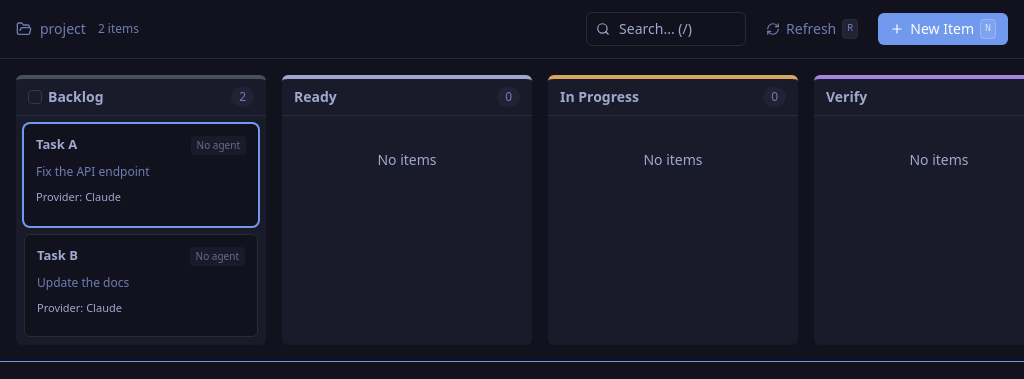
Scenario: KanbanView › should filter cards by description too
The width and height of the screenshot is (1024, 379).
Type "API" into the field with test id "search-input" at (666, 29), box [586, 12, 746, 46]
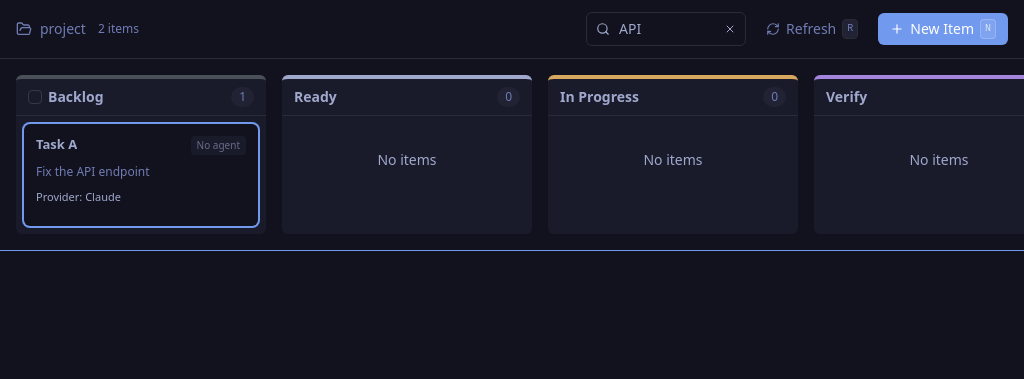
Expected: the heading "Task A" is shown, [36, 136, 77, 152]
Expected: the number of buttons with test id "kanban-card" is 1, [24, 124, 258, 226]
